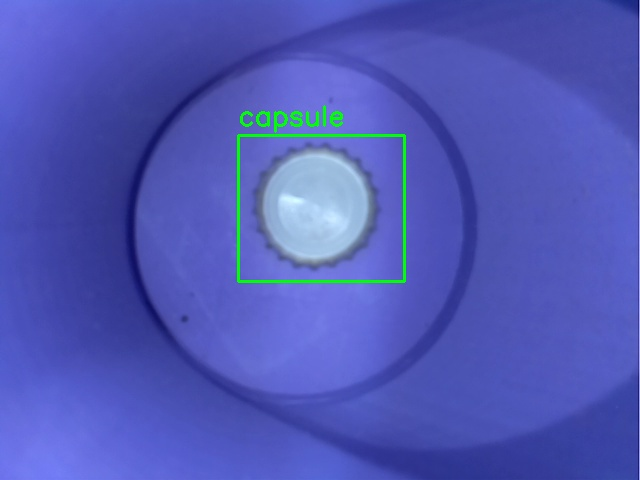capsule: (238, 135, 404, 281)
